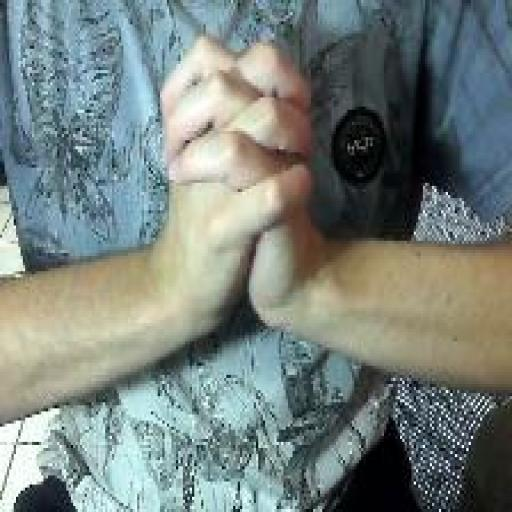Mi -snake-: (156, 29, 319, 349)
